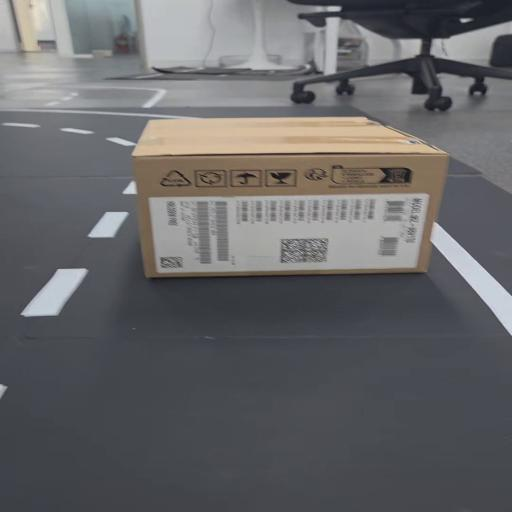Box: (108, 116, 478, 280)
